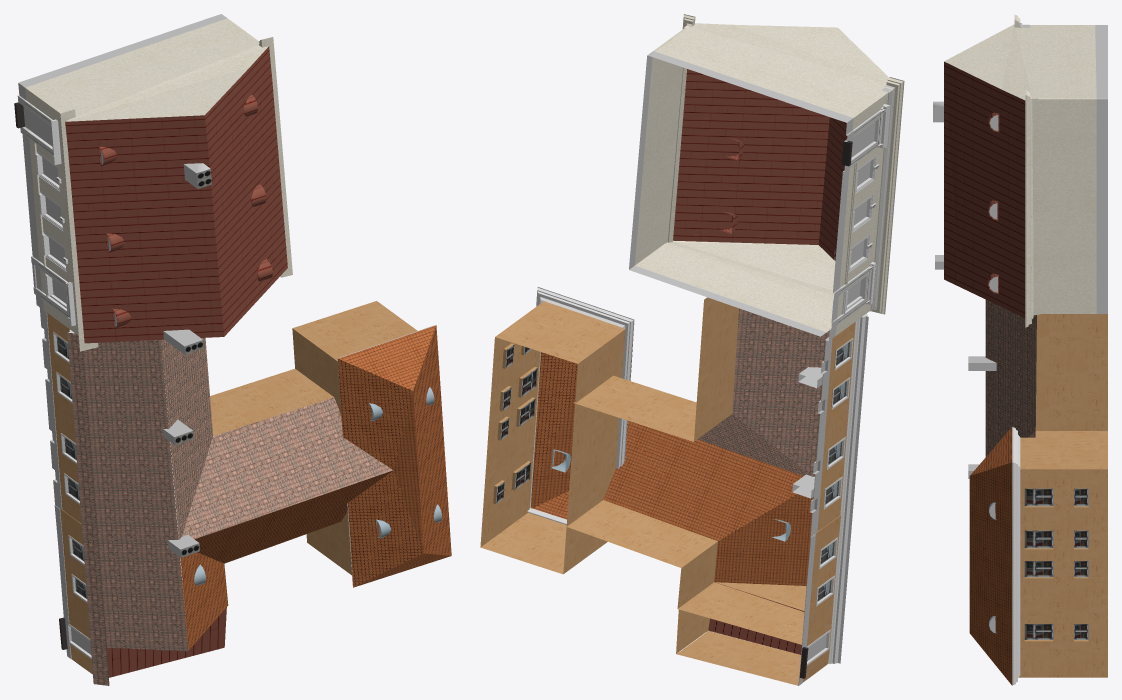
File: Uus_16.obj
3 views of the same model, side by side, from view 1: azimuth 30°, elevation 25°; view 2: azimuth 150°, elevation 25°; view 3: azimuth 270°, elevation 25° (orthographic). The views are drawn at different scales.
Visible parts, largest first — view 1: uustn16iiv; view 2: uustn16iiv; view 3: uustn16iiv.
Boxes of the visible parts, <box> form: uustn16iiv: <box>14,14,451,685</box>; uustn16iiv: <box>480,14,904,685</box>; uustn16iiv: <box>933,14,1107,685</box>.
Bounding box in the file's own units: 26.8 × 40.26 × 11.25.
